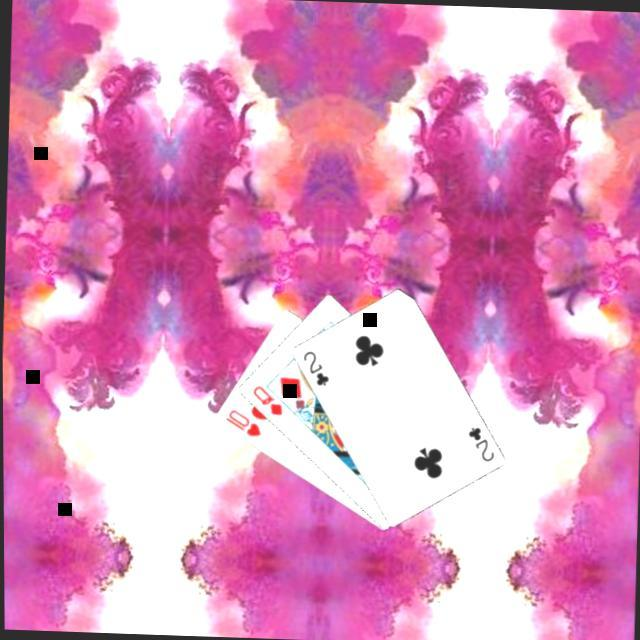10H: (218, 404, 262, 436)
2C: (296, 344, 329, 386), (461, 421, 494, 462)
QD: (246, 379, 283, 416)
